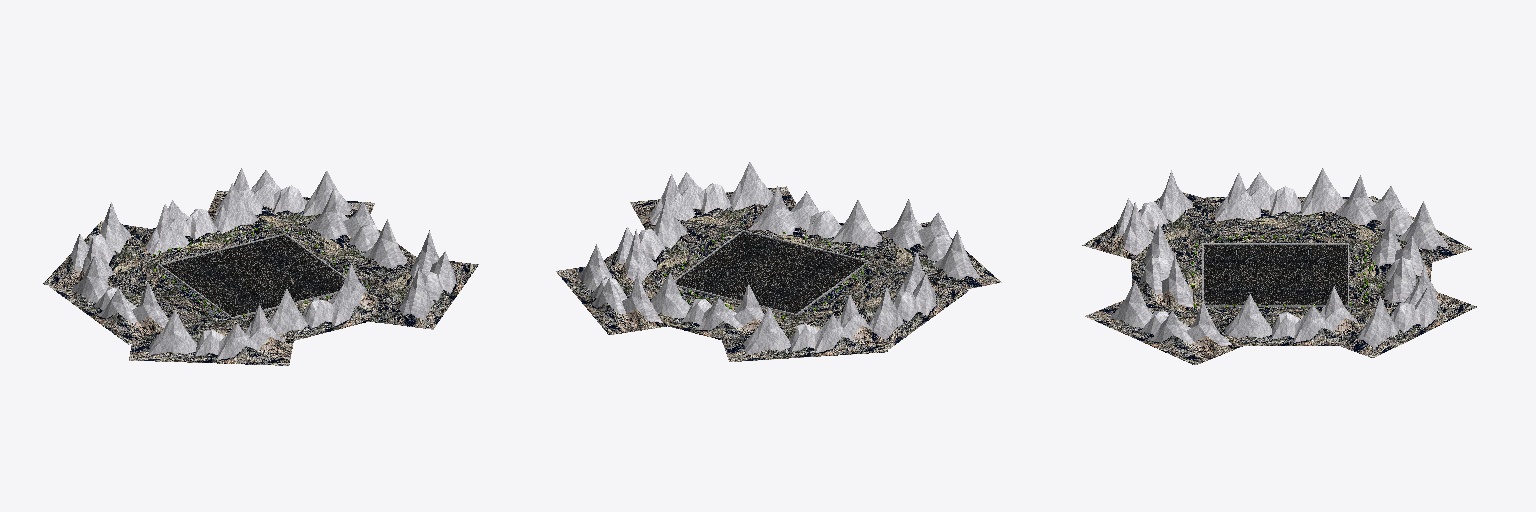
3 renders of one model, left to right at view 1: azimuth 30°, elevation 25°; view 2: azimuth 150°, elevation 25°; view 3: azimuth 270°, elevation 25°, orthographic.
Parts seen in each view (by area): view 1: polySurface1; view 2: polySurface1; view 3: polySurface1.
Boxes of the visible parts, box(x1,y1,x2,y2) form: polySurface1: box(43, 168, 478, 365); polySurface1: box(556, 162, 1001, 361); polySurface1: box(1082, 168, 1476, 364).
Size of the model in its own units: 863 by 98.74 by 818.
Materials: 5 (4 with a texture image).